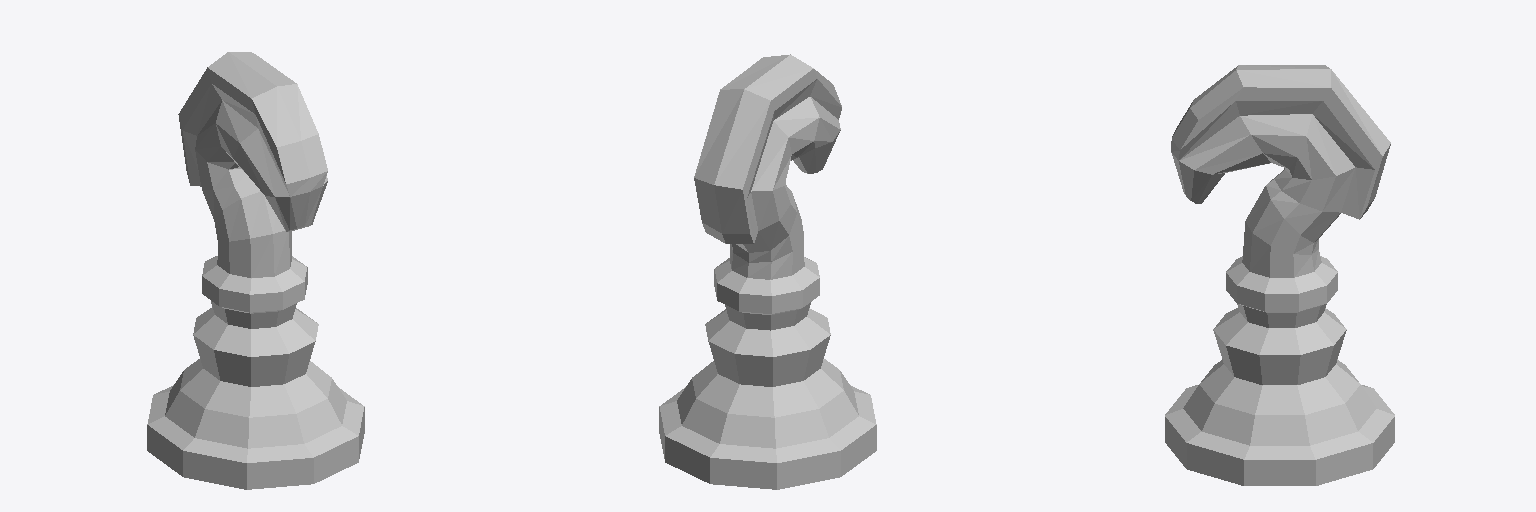
File: hussar.obj
The picture shows the model from 3 angles: view 1: azimuth 30°, elevation 25°; view 2: azimuth 150°, elevation 25°; view 3: azimuth 270°, elevation 25°; orthographic projection.
Bounding box in the file's own units: 0.9707 × 1.9 × 1.07.